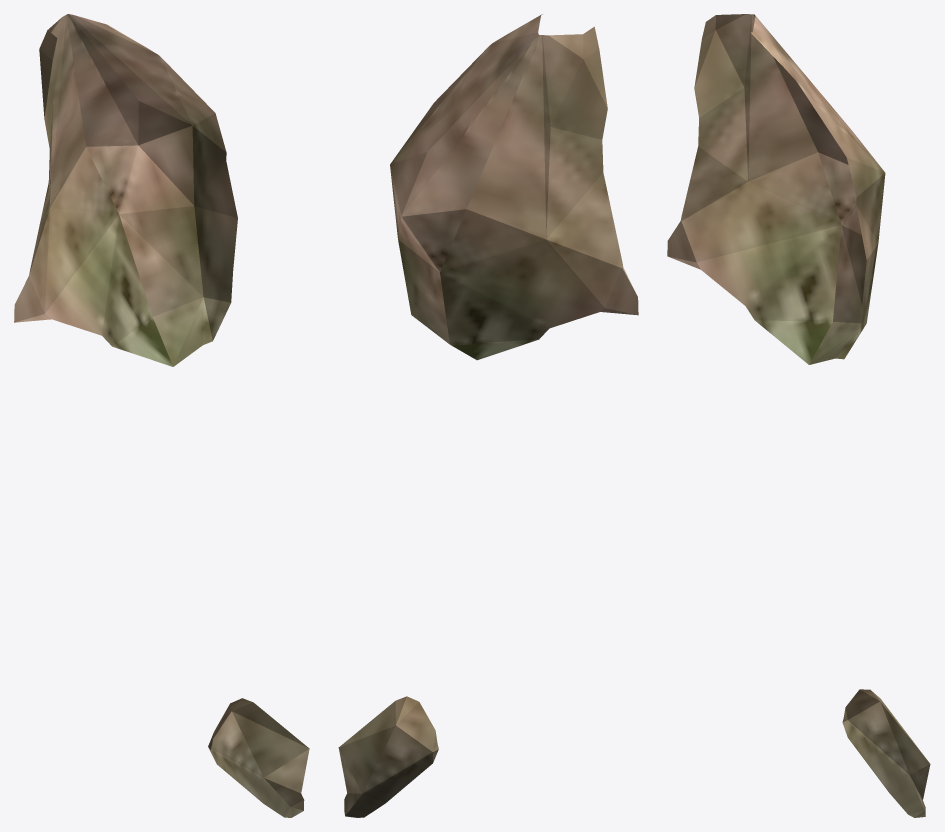
3 views of the same model, side by side, from view 1: azimuth 30°, elevation 25°; view 2: azimuth 150°, elevation 25°; view 3: azimuth 330°, elevation 25° (orthographic). The views are drawn at different scales.
Size of the model in its own units: 0.5065 by 1.37 by 0.1625.
1 material, 1 textured.
